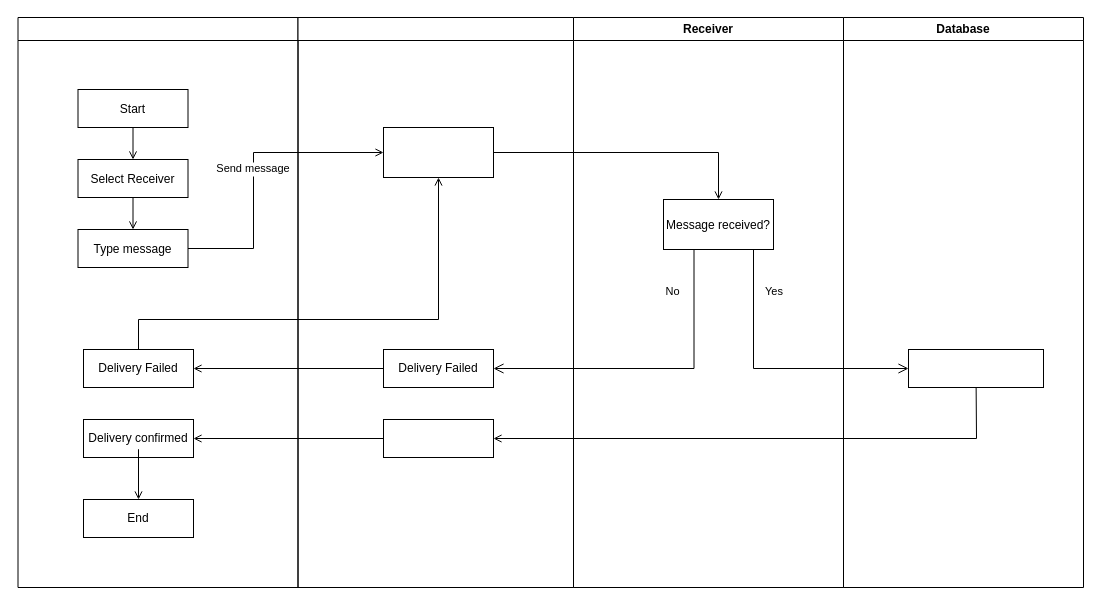
Image size: 1101x605. Some labels were removed from this diagram. The box of each missing label's shape, as (x1, y1, x2, y2) in pixels:
Confirm delivery: (382, 418, 494, 458)
Deliver Message: (382, 126, 494, 178)
MessengerApp: (297, 16, 574, 588)
Store message in history: (908, 348, 1044, 388)
User: (17, 16, 298, 588)
